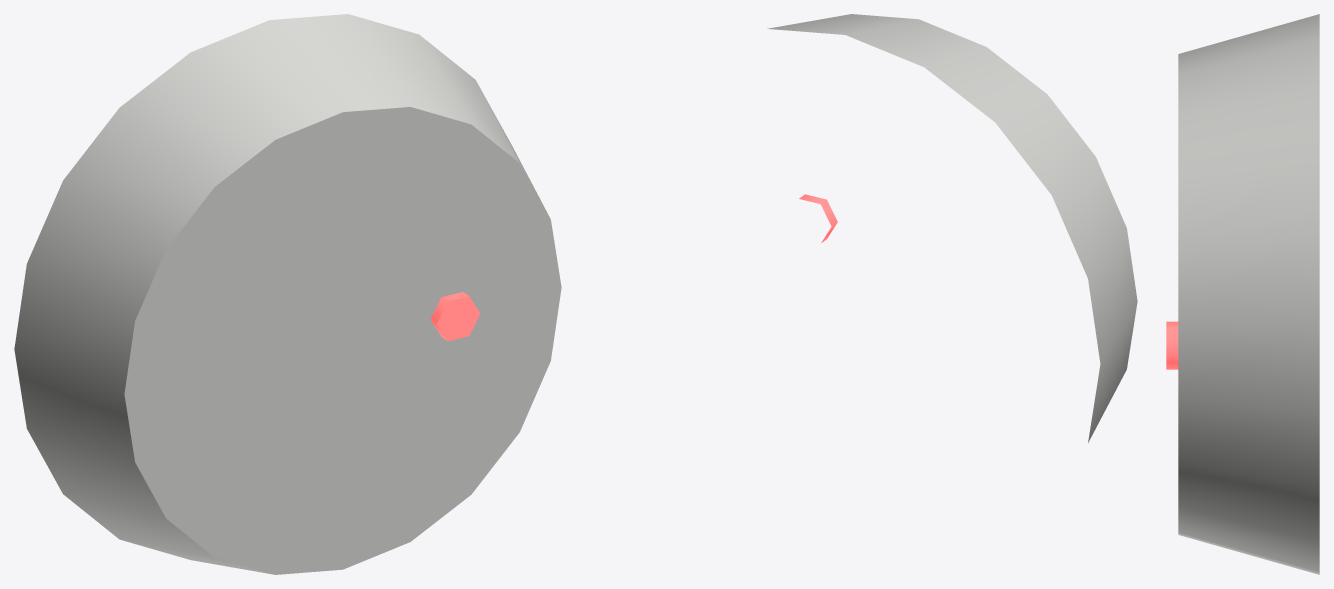
Rendered from smoke_alarm.glb.
The picture shows the model from 3 angles, left to right: view 1: azimuth 30°, elevation 25°; view 2: azimuth 150°, elevation 25°; view 3: azimuth 270°, elevation 25°; orthographic projection. The views are drawn at different scales.
Visible parts, largest first — view 1: smoke_alarm; view 2: smoke_alarm; view 3: smoke_alarm.
Boxes of the visible parts, box(x1,y1,x2,y2) form: smoke_alarm: box(14, 14, 561, 574); smoke_alarm: box(767, 14, 1137, 442); smoke_alarm: box(1166, 14, 1319, 574).
Bounding box in the file's own units: 0.14 × 0.14 × 0.038.
